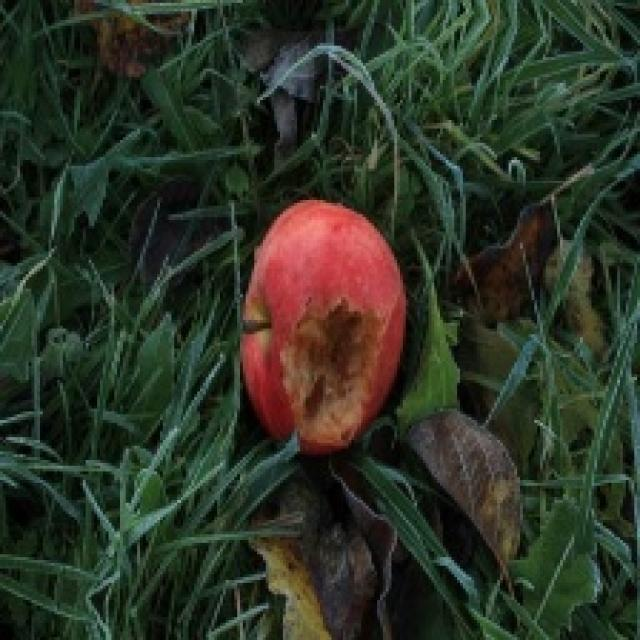rotten_apple: (245, 200, 406, 449)
